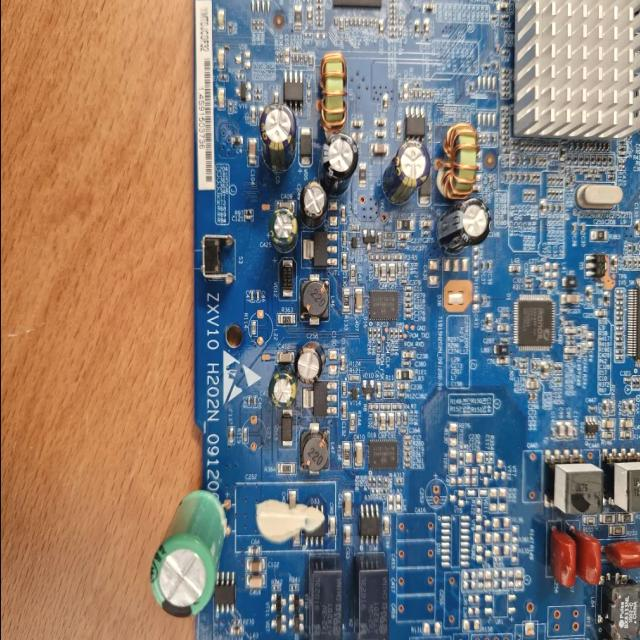A: (436, 122, 478, 196), (316, 54, 346, 130)
C: (150, 491, 225, 617), (382, 138, 428, 202), (438, 198, 490, 251), (319, 133, 357, 191), (260, 104, 294, 168), (293, 342, 325, 382), (268, 210, 296, 250), (268, 367, 296, 407), (300, 182, 327, 222)
